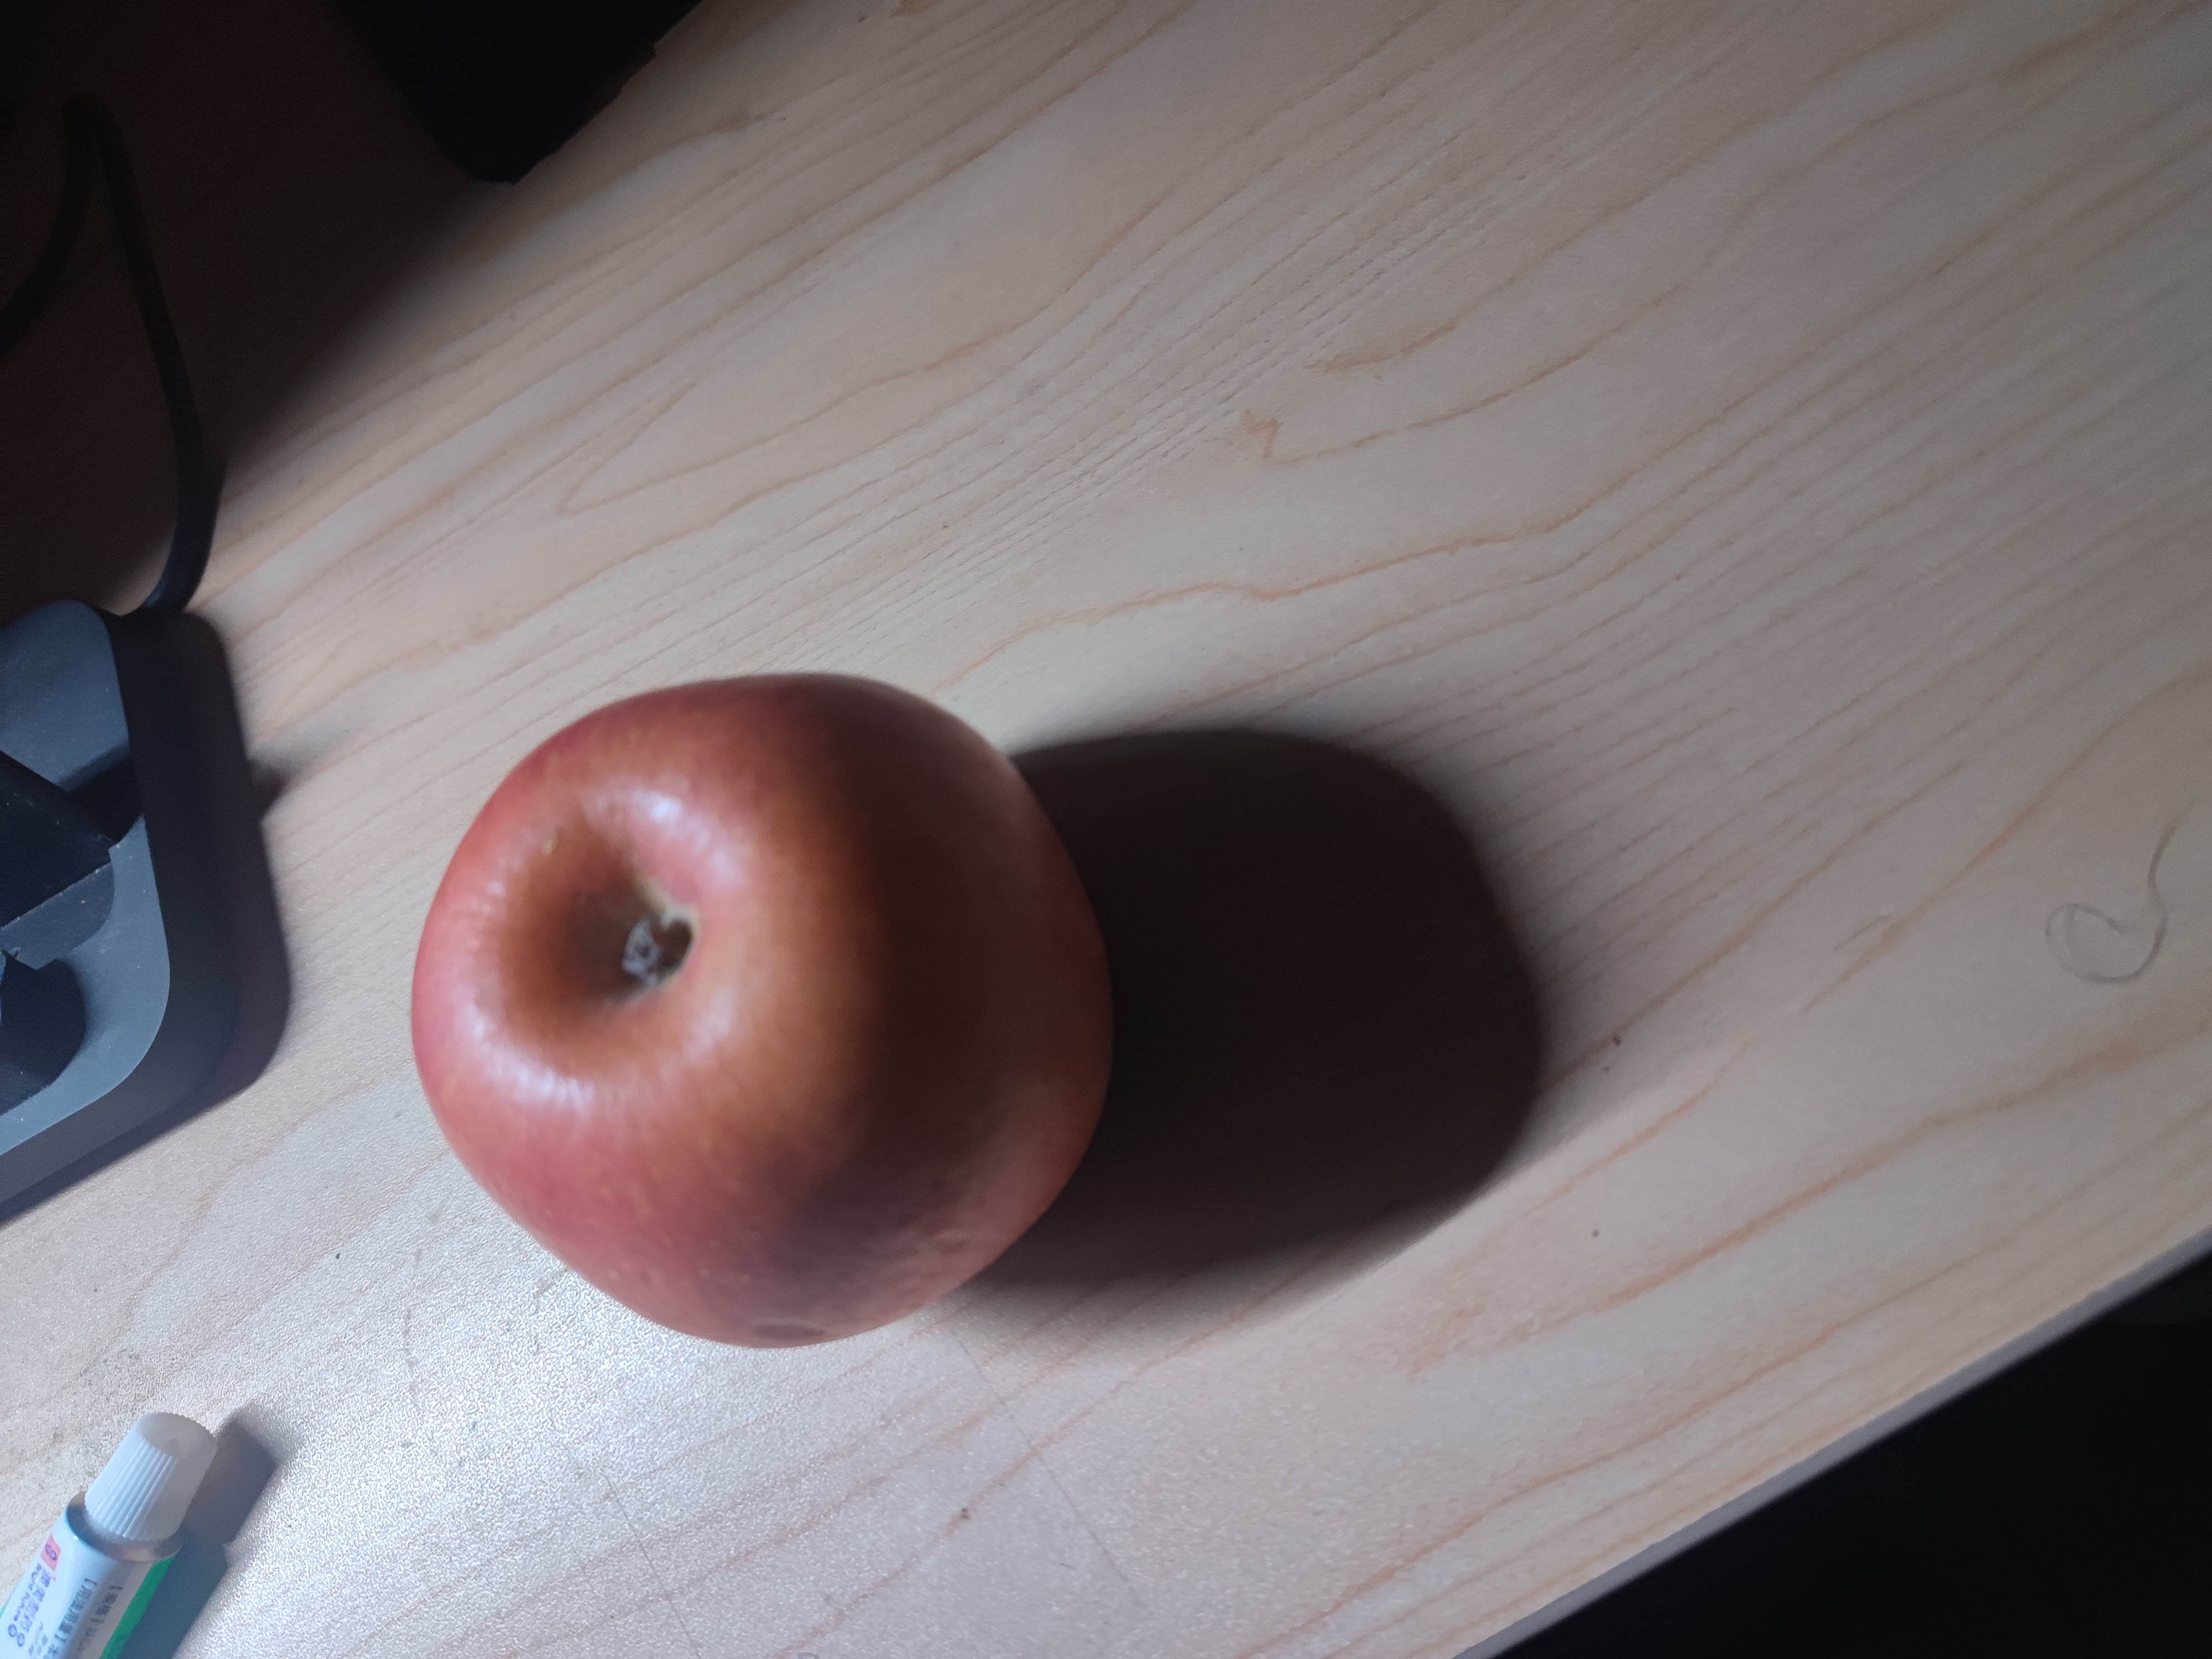apple: (399, 676, 1111, 1359)
